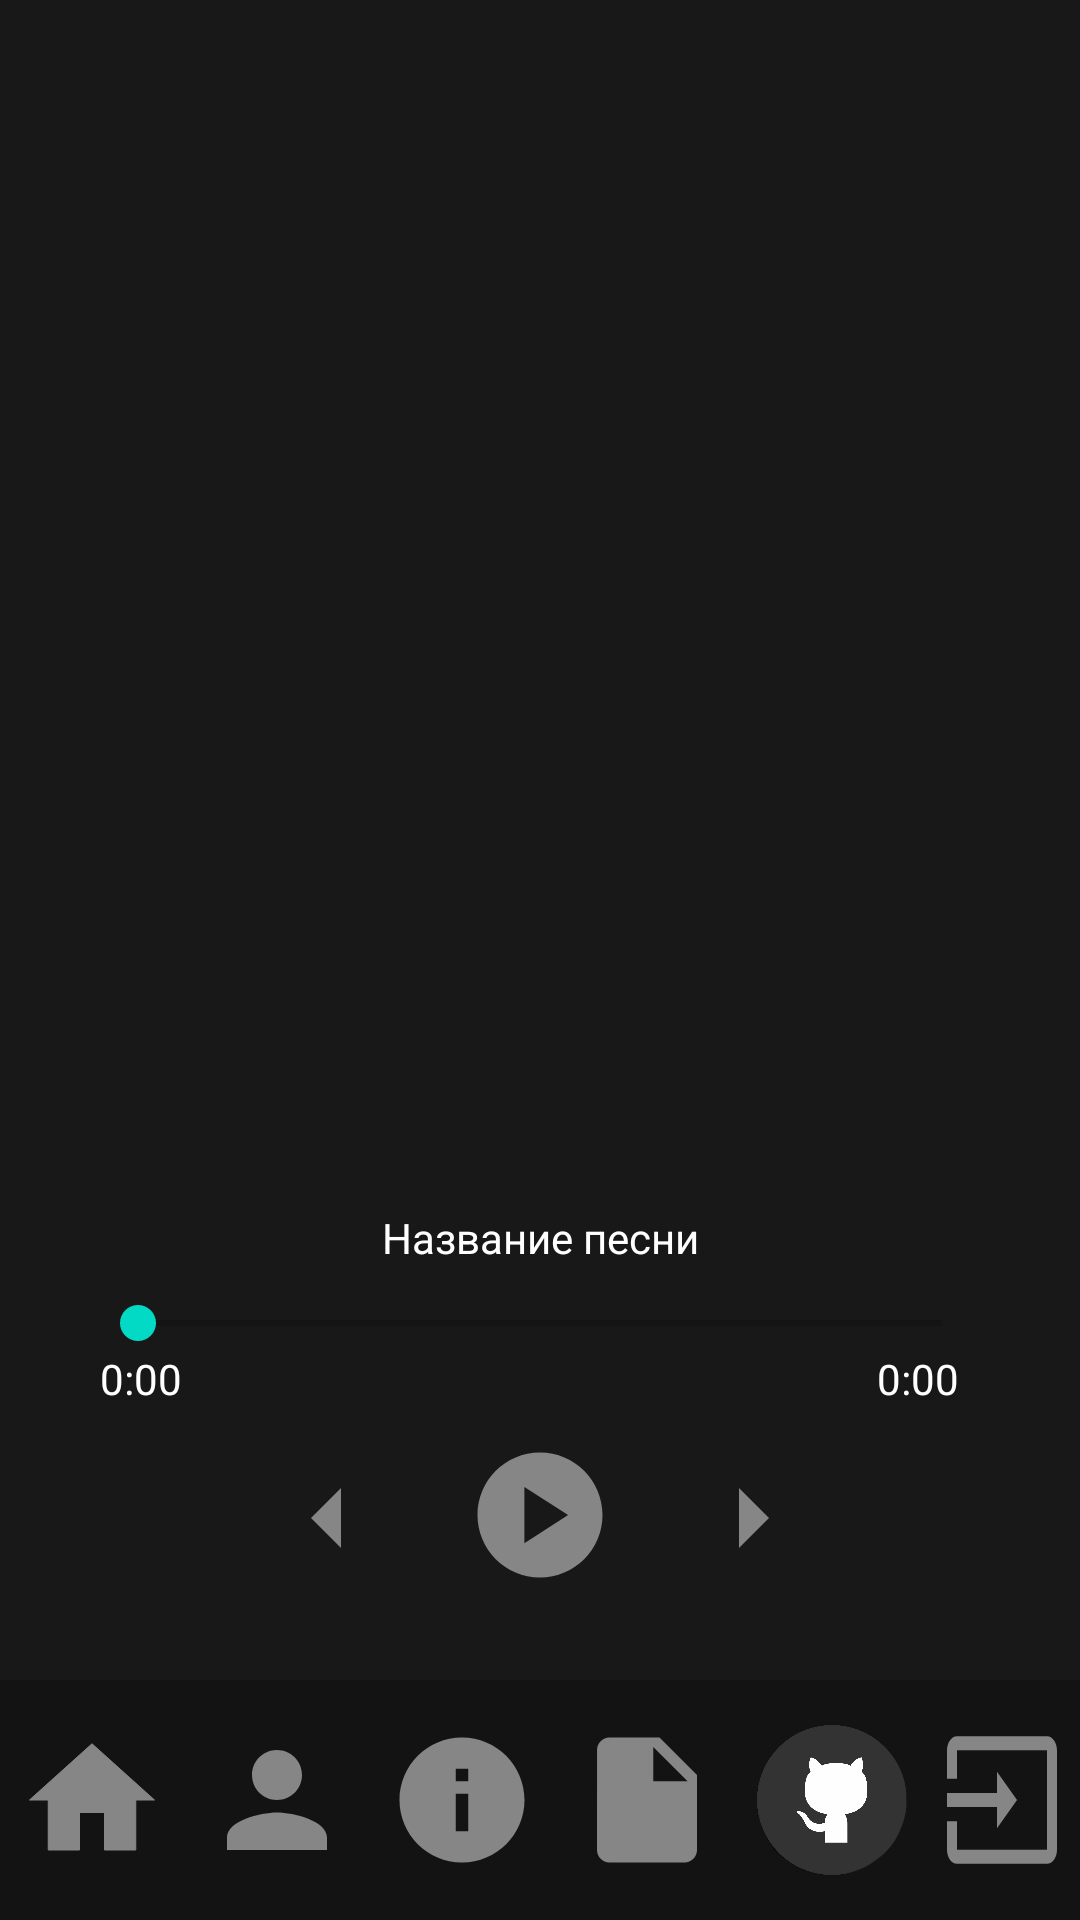

Where to tap for icons on this 1080w x 1920h app screen, as (x,y):
about prog: (462,1800)
arrow left: (326,1518)
arrow right: (754,1518)
exit: (1002,1800)
instruction: (647,1800)
play: (540,1515)
user: (277,1800)
